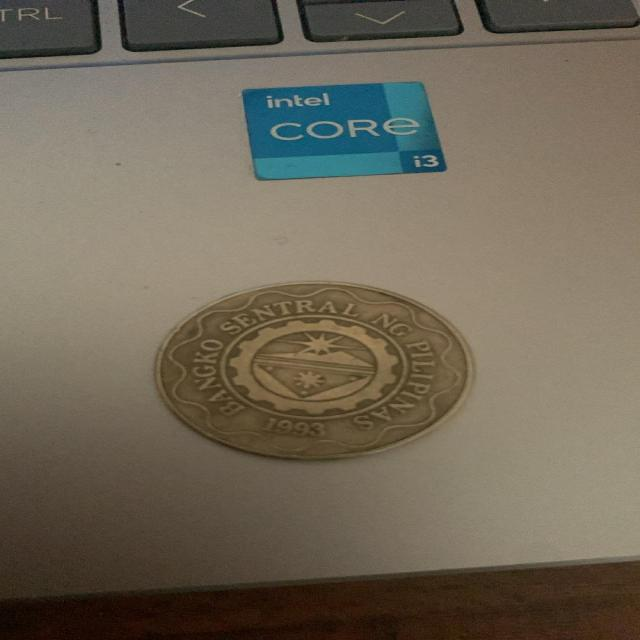5 peso-old: (142, 272, 492, 466)
